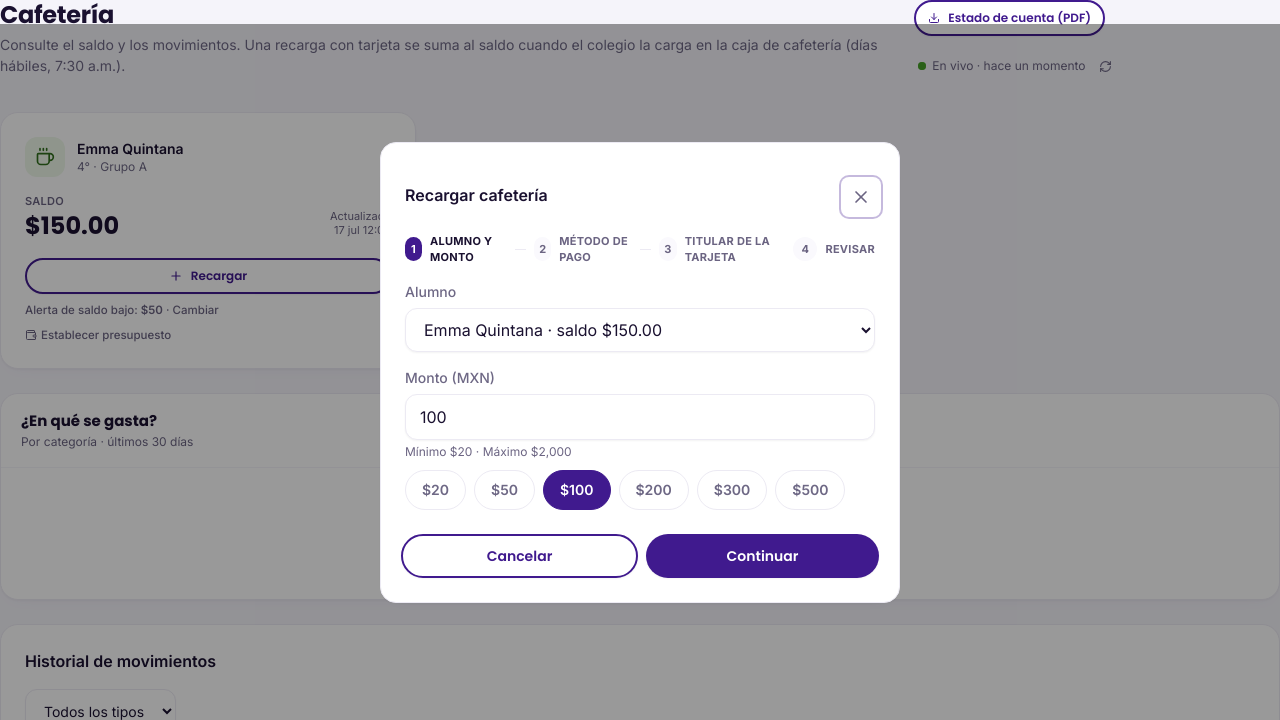
Test: CafeteriaPage top-up amounts › offers $20 and $50 quick amounts and accepts $20 as the minimum
Expected: the dialog "Recargar cafetería" is shown, [380,142,900,602]
Expected: the button "$50" is shown, [474,470,535,510]
Click the button "$20".
click(436, 490)  # box [405,470,466,510]
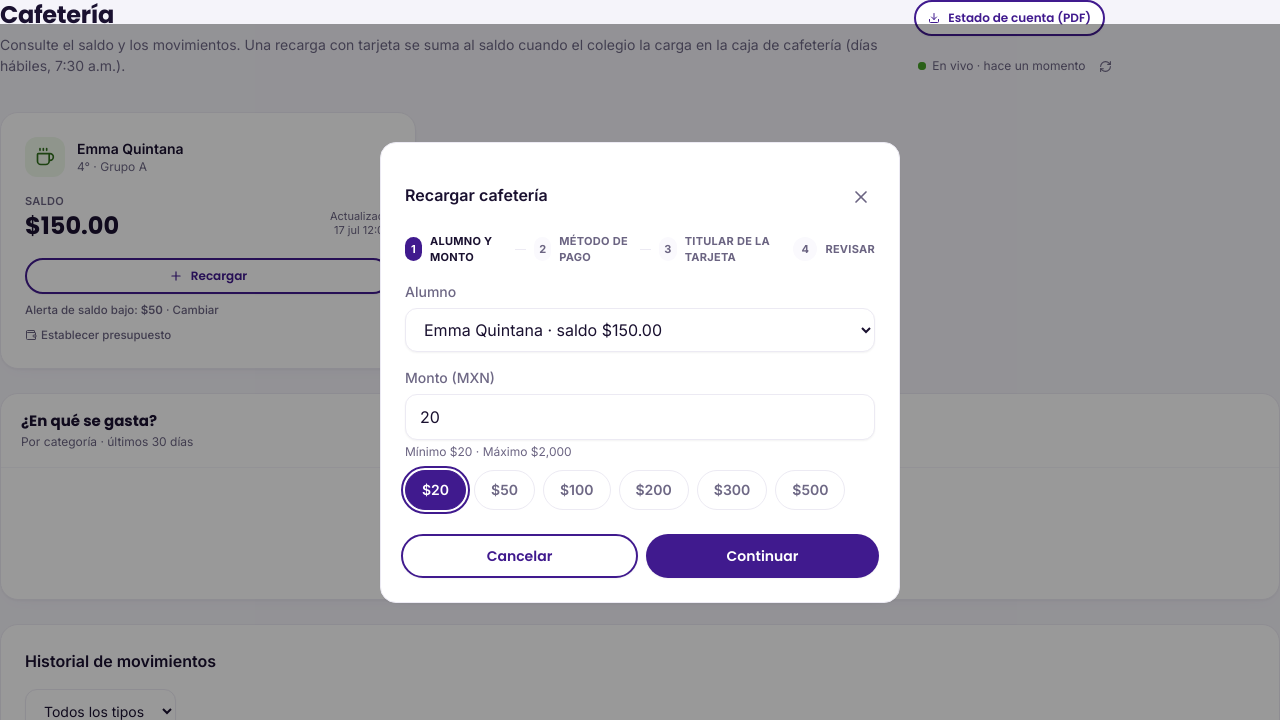
Expected: the text "Mínimo $20 · Máximo $2,000" is shown, [405,444,572,458]
Now the number field labelled "Monto (MXN)" holds "20", box [405,394,875,440]
